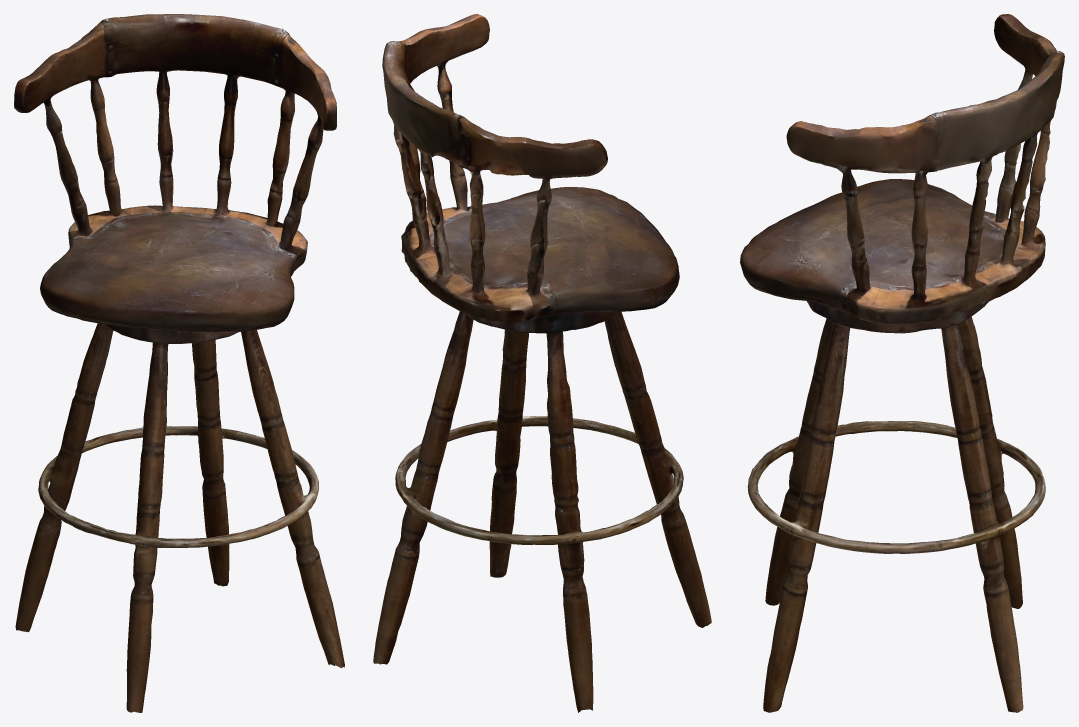
File: scan_chiair.glb
The picture shows the model from 3 angles, left to right: view 1: azimuth 30°, elevation 25°; view 2: azimuth 150°, elevation 25°; view 3: azimuth 270°, elevation 25°; orthographic projection. The views are drawn at different scales.
Parts seen in each view (by area): view 1: unnamed_n3d; view 2: unnamed_n3d; view 3: unnamed_n3d.
Part boxes in pixels (x1=…): unnamed_n3d: x1=14, y1=14, x2=344, y2=712; unnamed_n3d: x1=373, y1=14, x2=711, y2=712; unnamed_n3d: x1=740, y1=14, x2=1064, y2=712.
Bounding box in the file's own units: 2.43 × 5.05 × 2.43.
12 materials, 12 textured.
